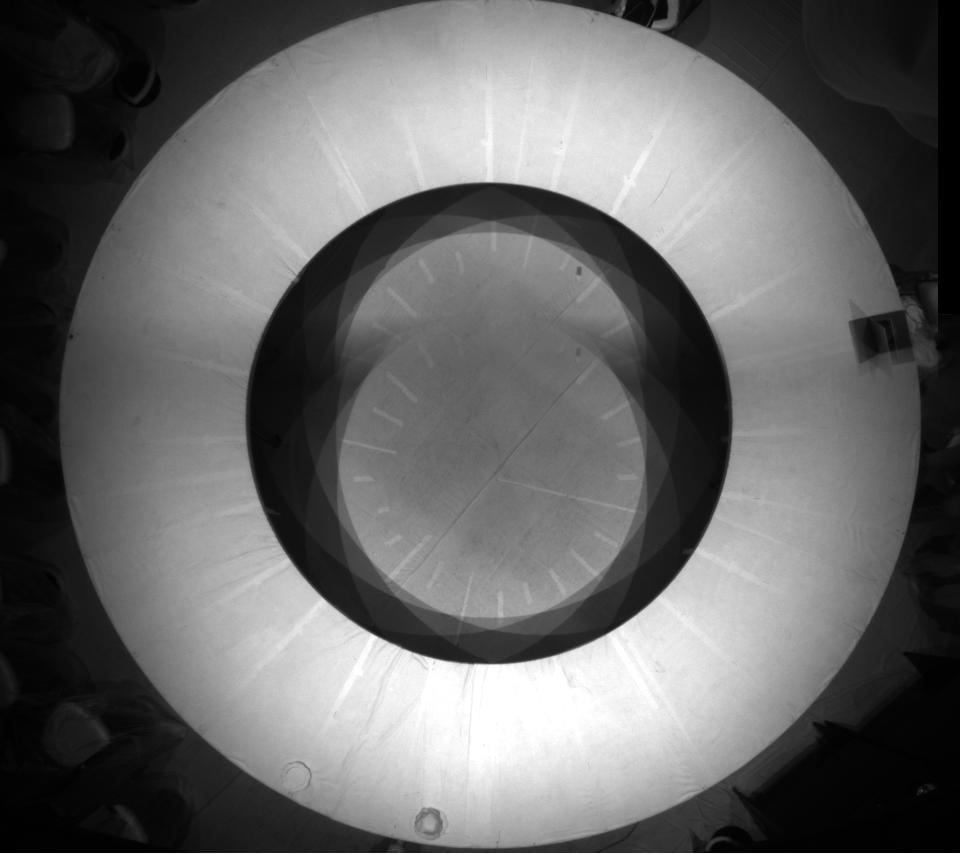Plate: (276, 758, 312, 795)
